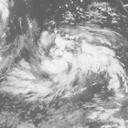cyclone: (30, 30, 88, 90)
